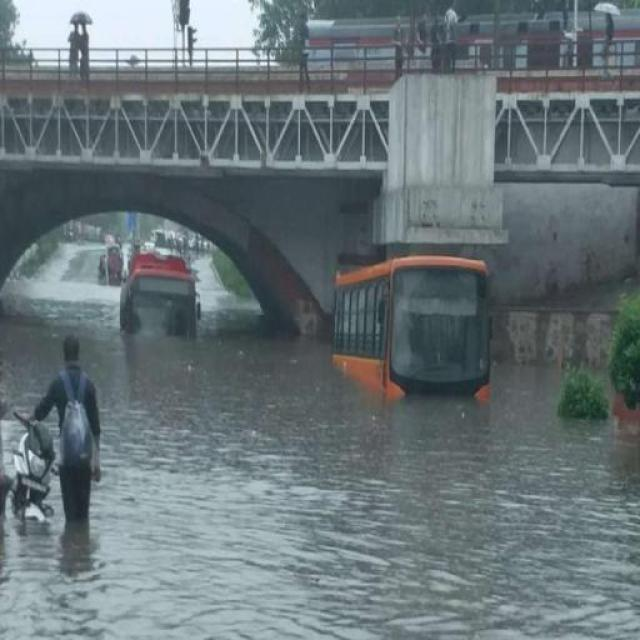puddle: (7, 529, 640, 640), (114, 337, 339, 640), (311, 400, 640, 570)
